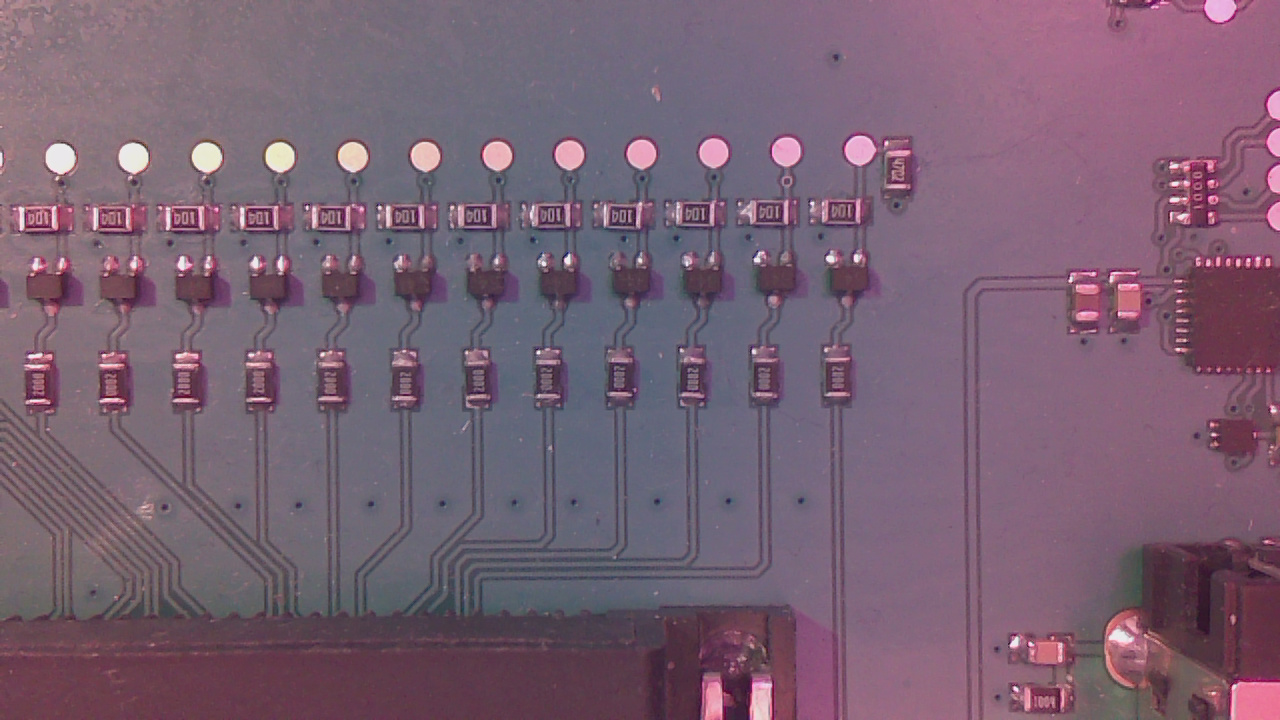Condensator: (1077, 284, 1107, 327), (1031, 640, 1072, 670), (1118, 287, 1146, 329)
Resistor: (320, 361, 353, 410), (174, 366, 208, 413), (887, 152, 920, 200), (606, 360, 639, 408), (103, 364, 134, 412), (827, 362, 860, 407), (250, 364, 281, 411), (29, 370, 62, 413), (757, 359, 789, 403), (468, 364, 499, 409), (539, 363, 569, 409), (683, 361, 713, 407), (678, 204, 725, 233), (533, 208, 578, 238), (397, 363, 427, 408), (315, 207, 358, 237), (822, 203, 868, 231), (458, 207, 500, 237), (247, 212, 292, 240), (608, 207, 650, 236), (97, 211, 139, 240), (22, 212, 68, 238), (169, 212, 213, 239), (388, 207, 431, 234), (753, 204, 793, 233), (1028, 694, 1073, 719)
Transistor: (399, 261, 444, 318), (830, 261, 875, 317), (686, 260, 731, 316), (179, 263, 222, 320), (31, 264, 76, 318), (759, 260, 802, 316), (615, 257, 656, 313), (542, 262, 584, 316), (254, 261, 295, 316), (327, 263, 368, 317), (472, 261, 512, 316), (106, 265, 147, 316)
